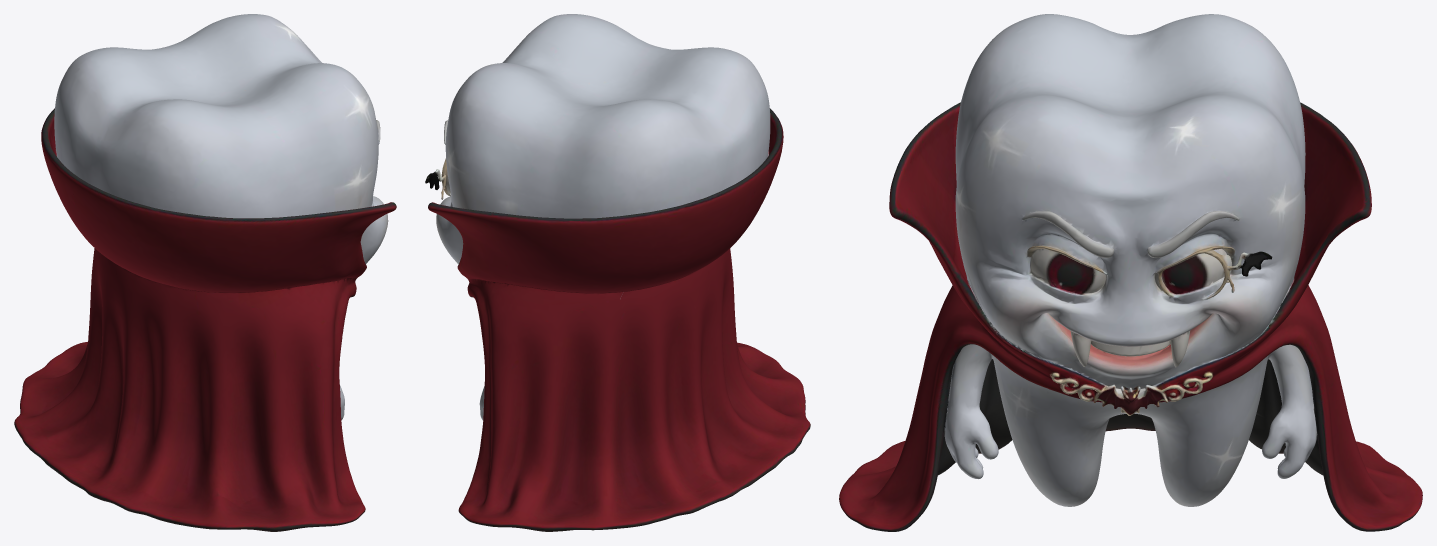
The model's file is glbData_1780601435077_igt8d.glb.
3 views of the same model, side by side, from view 1: azimuth 30°, elevation 25°; view 2: azimuth 150°, elevation 25°; view 3: azimuth 270°, elevation 25° (orthographic). The views are drawn at different scales.
Parts seen in each view (by area): view 1: tripo_node_ae769be0-ed50-4b75-8f19-10f540333a01; view 2: tripo_node_ae769be0-ed50-4b75-8f19-10f540333a01; view 3: tripo_node_ae769be0-ed50-4b75-8f19-10f540333a01.
Boxes of the visible parts, x1,y1,x2,y2 form: tripo_node_ae769be0-ed50-4b75-8f19-10f540333a01: (14,14,396,531); tripo_node_ae769be0-ed50-4b75-8f19-10f540333a01: (425,14,810,531); tripo_node_ae769be0-ed50-4b75-8f19-10f540333a01: (839,14,1422,531).
Size of the model in its own units: 0.165 by 0.2 by 0.237.
1 material, 1 textured.
